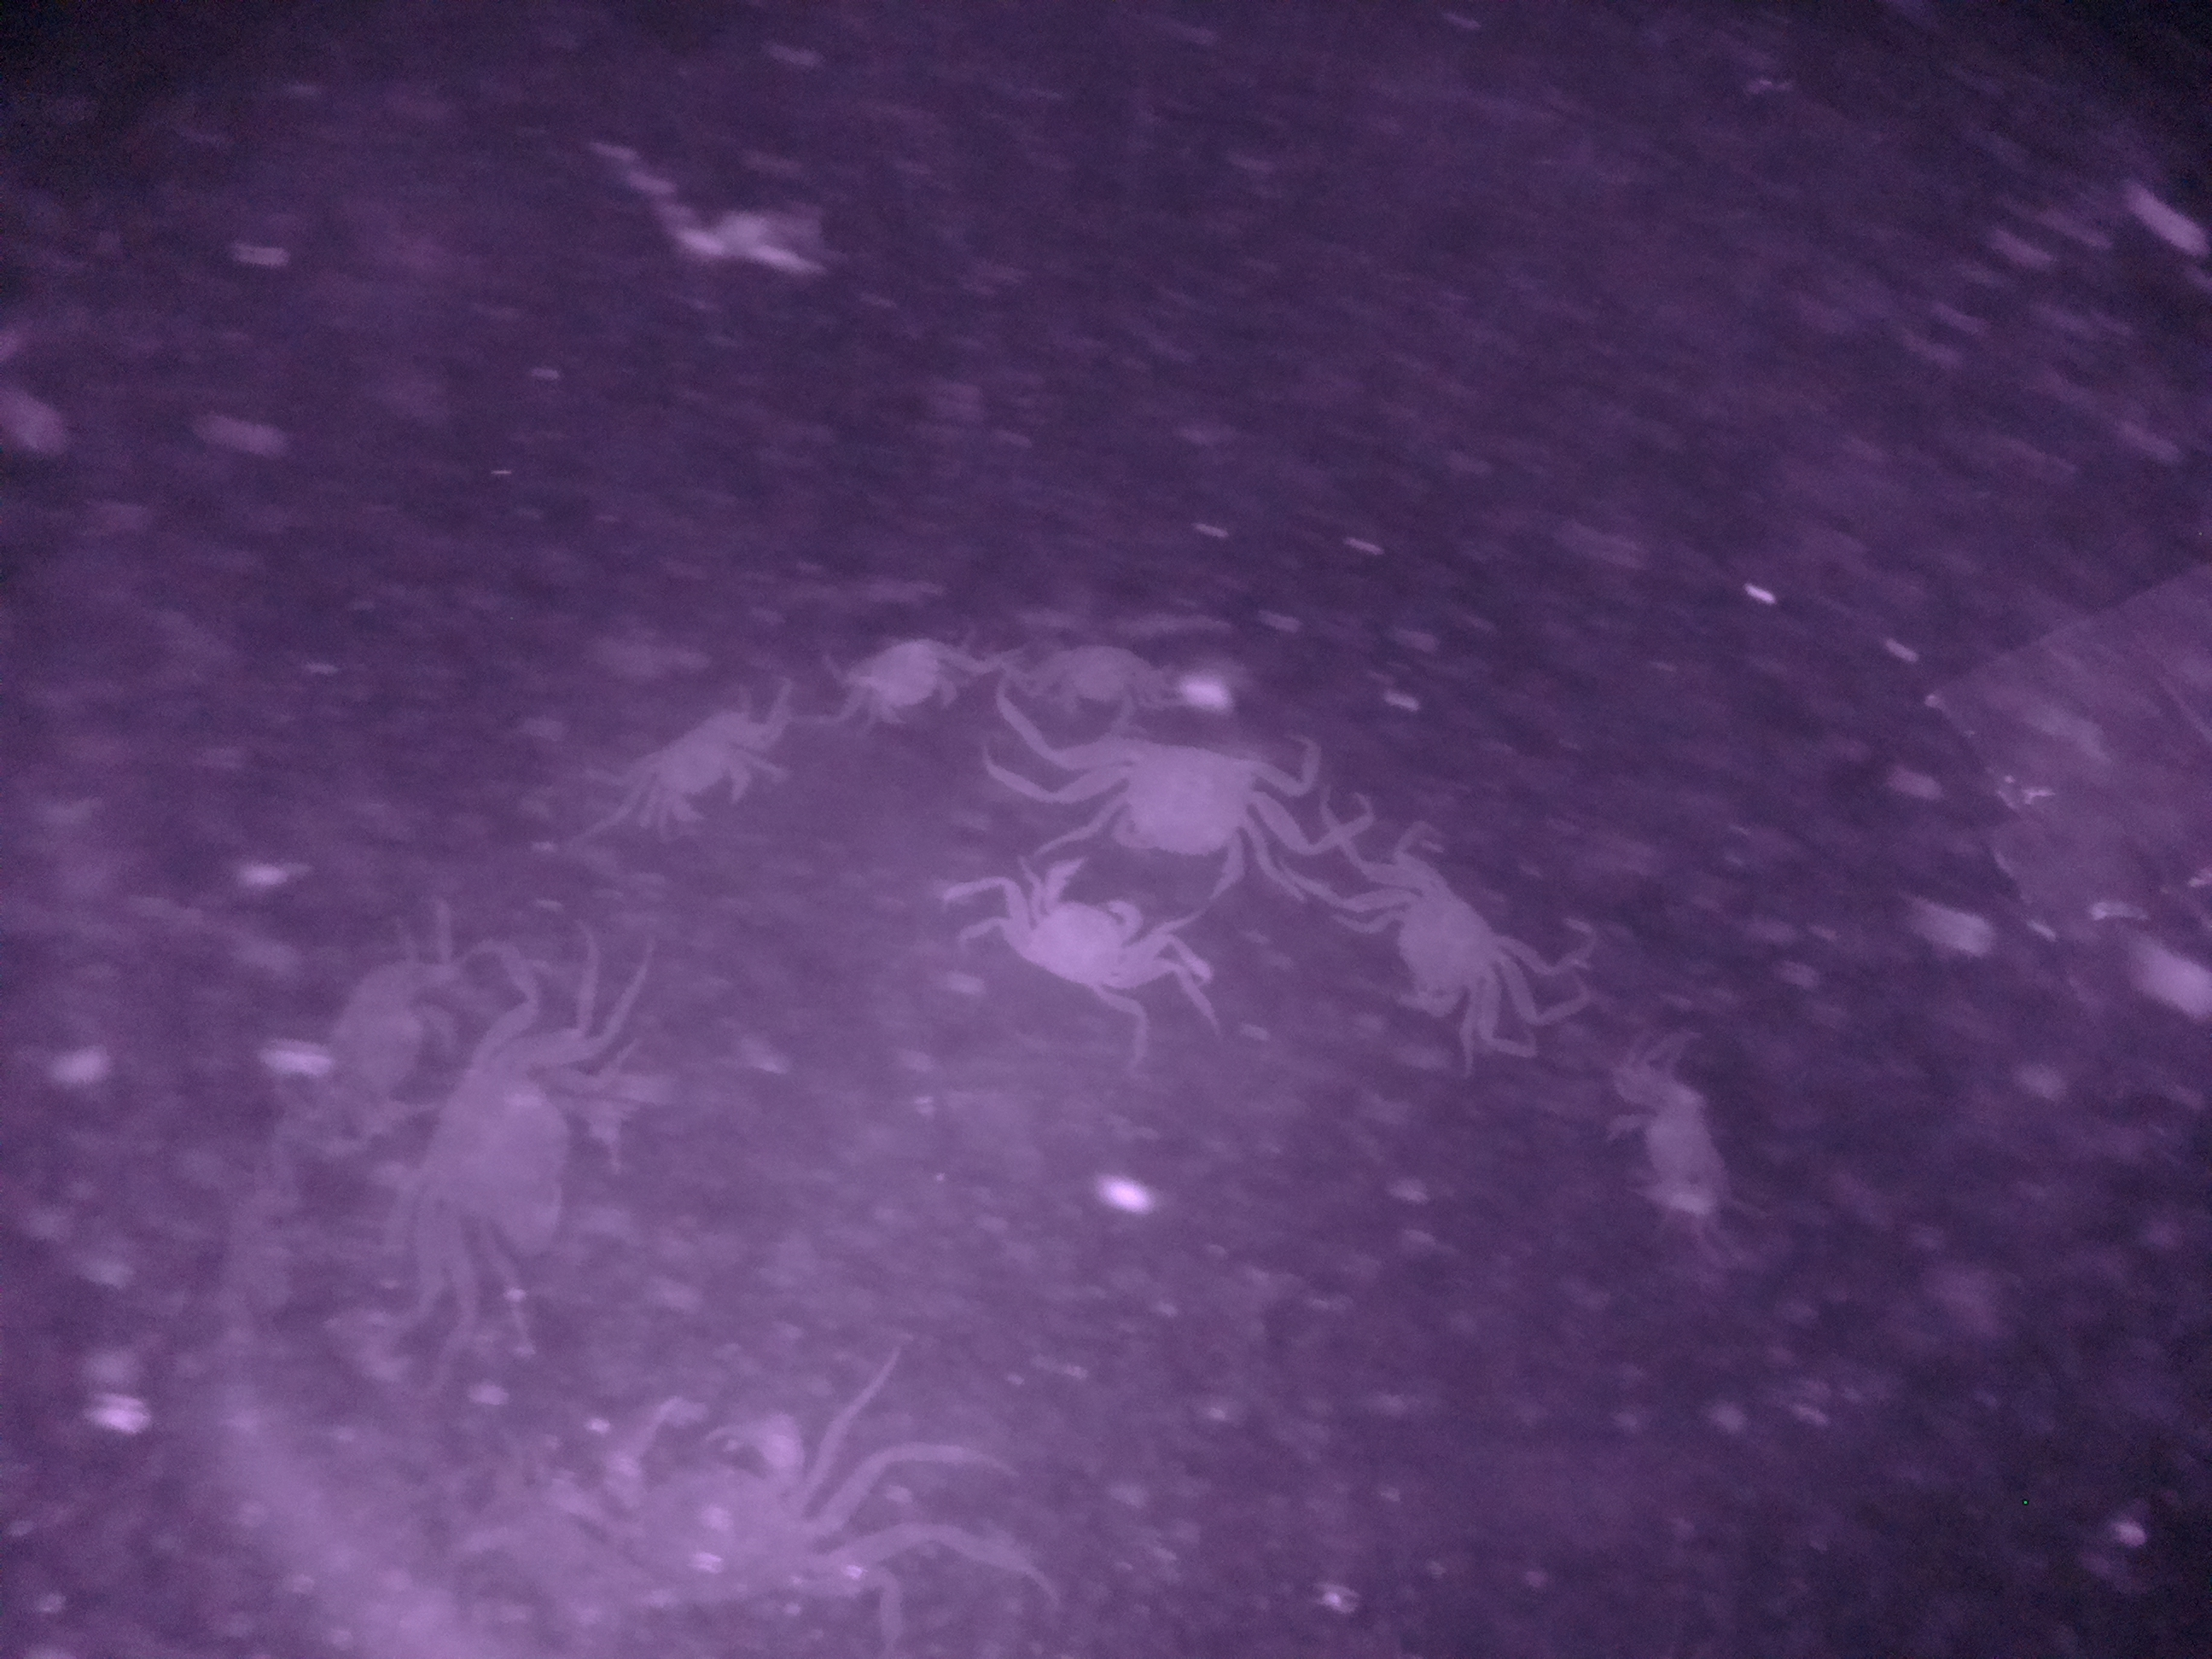Crab: (1348, 831, 1533, 1047), (1064, 716, 1287, 892), (974, 863, 1179, 1021), (631, 701, 784, 833), (1022, 619, 1169, 739), (827, 626, 984, 735)
